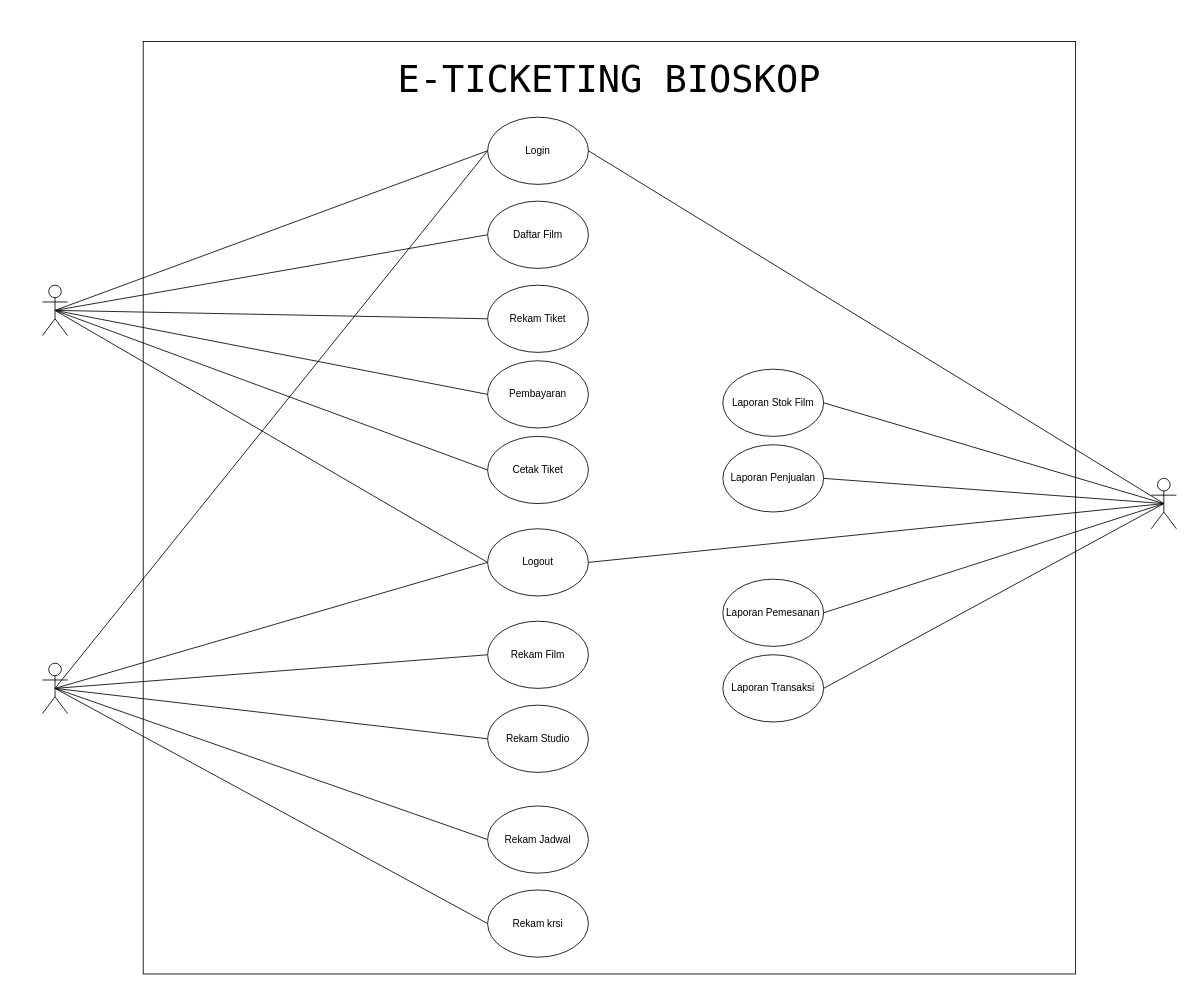
Some shapes in this 1200 by 989 pixel diagram are drawn without their labels. Each missing label, with the centre of its shape:
Bagian Pemjualan: pixel 55 688
Kostumer: pixel 55 310
Pimpinan: pixel 1163 503
